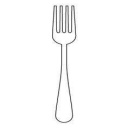Fork: (44, 3, 86, 121)
